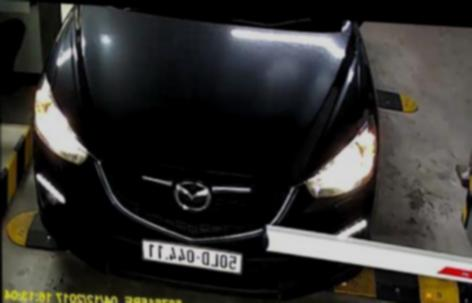License_Plate: (137, 234, 247, 276)
